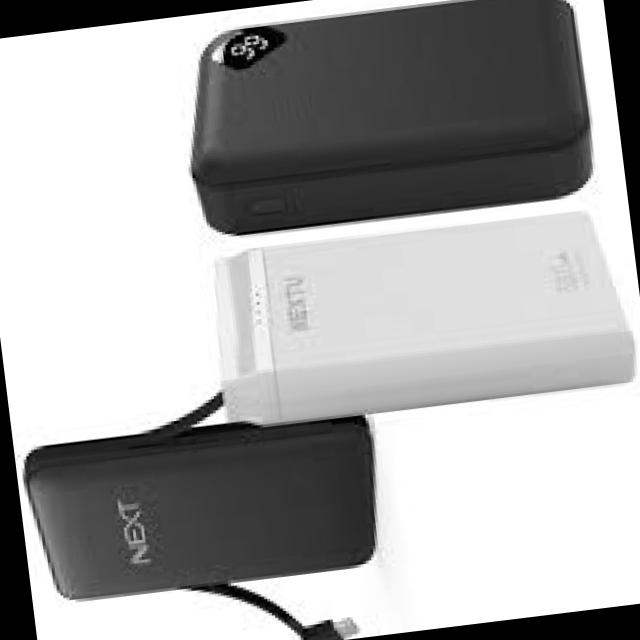power_bank: (173, 0, 604, 241), (196, 202, 639, 436), (15, 404, 394, 611)
